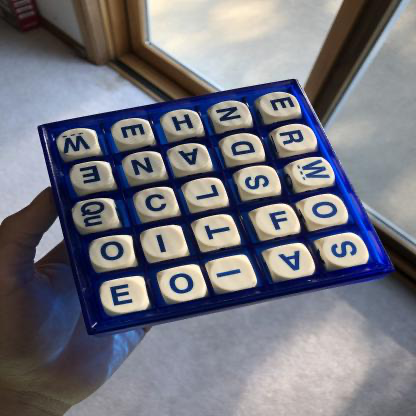a: (269, 246, 314, 279), (169, 145, 211, 172)
c: (137, 189, 177, 218)
d: (223, 134, 264, 161)
e: (101, 280, 148, 314), (72, 163, 111, 191), (114, 119, 154, 145), (261, 94, 299, 118)
f: (256, 206, 300, 236)
h: (163, 111, 202, 136)
i: (210, 259, 256, 291), (143, 228, 187, 259)
l: (185, 180, 228, 208)
n: (126, 153, 165, 181), (212, 102, 251, 128)
o: (161, 269, 206, 303), (91, 238, 134, 269), (305, 197, 347, 226)
qu: (74, 200, 116, 230)
r: (277, 126, 317, 152)
s: (323, 235, 369, 268), (239, 167, 280, 196)
t: (196, 217, 238, 248)
w: (293, 158, 335, 186), (60, 131, 97, 156)
